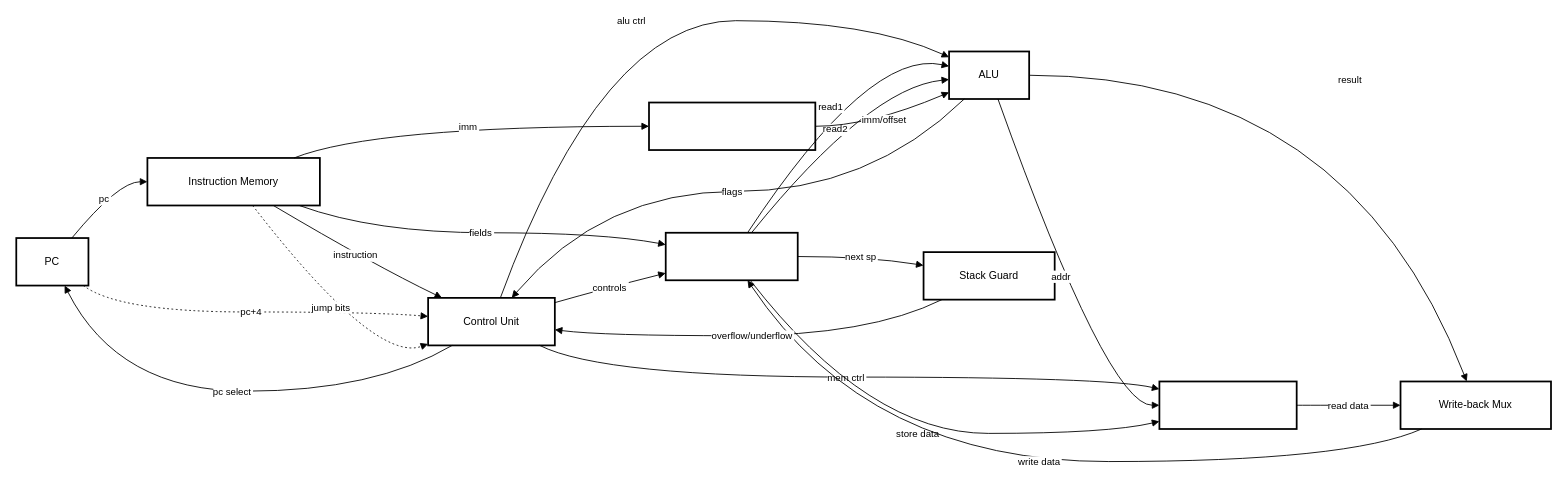
The diagram is 1566 pixels wide and 482 high, and some of its shapes have lost their labels. Each missing label, with the centre of its shape:
"Data Memory" belongs at [1227,404].
"Imm Extend / Mux" belongs at [732,125].
"Register File" belongs at [731,256].
